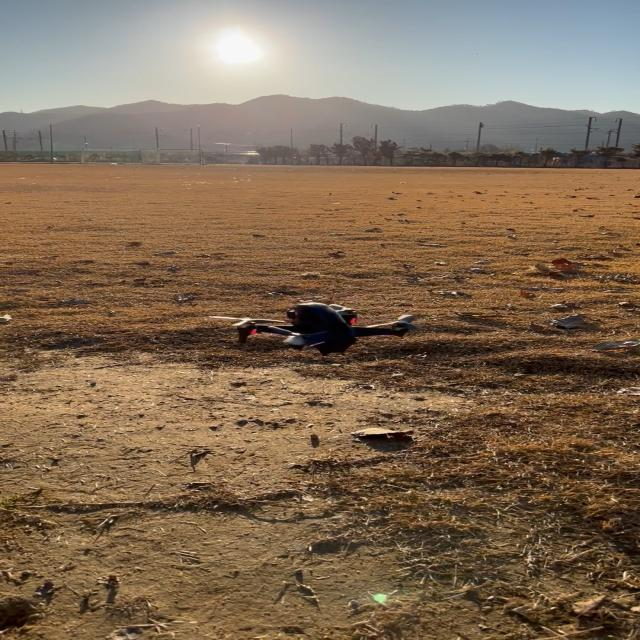drone: (207, 301, 420, 356)
